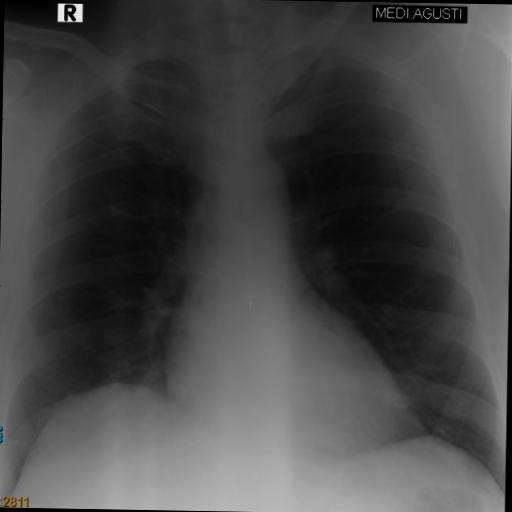kardiomegali: (0, 13, 509, 503)
